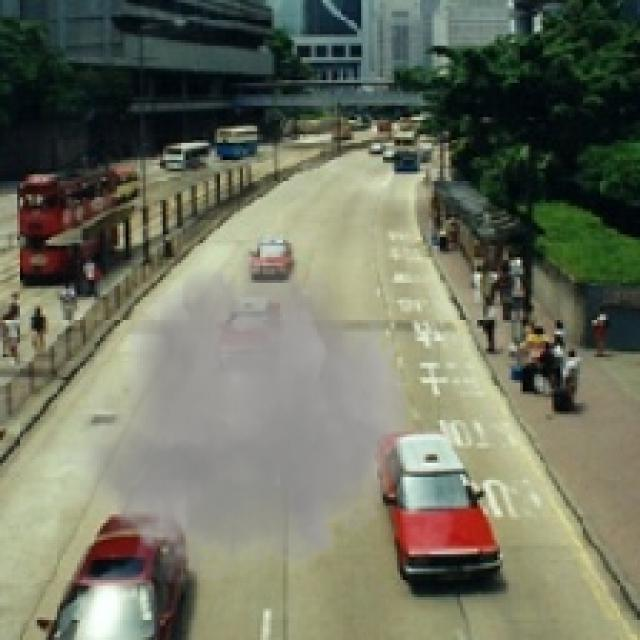smoke: (57, 220, 417, 600)
